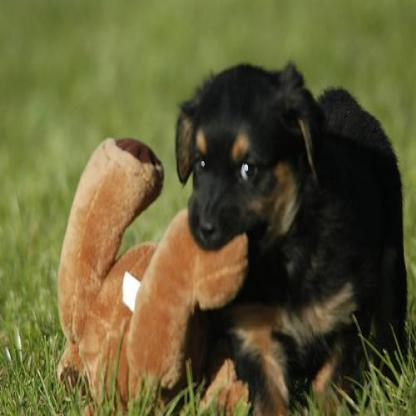Rottweiler: (176, 62, 408, 414)
